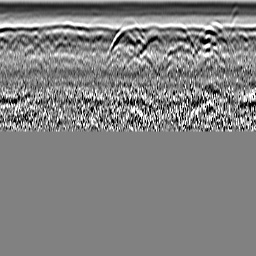cavity: (109, 18, 146, 52)
